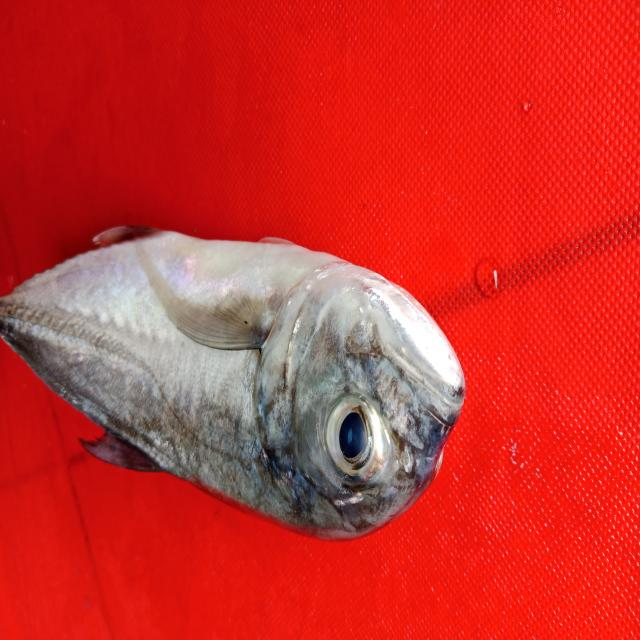ikan: (11, 218, 476, 556)
